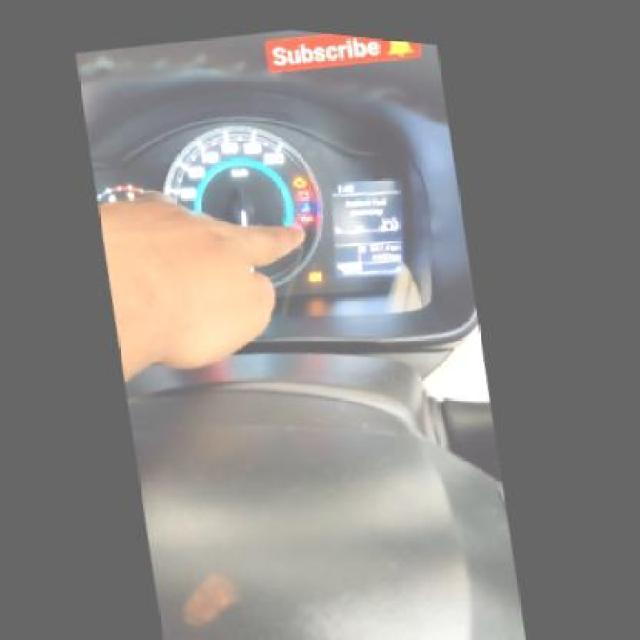Engine cooling system: (302, 194, 313, 208)
